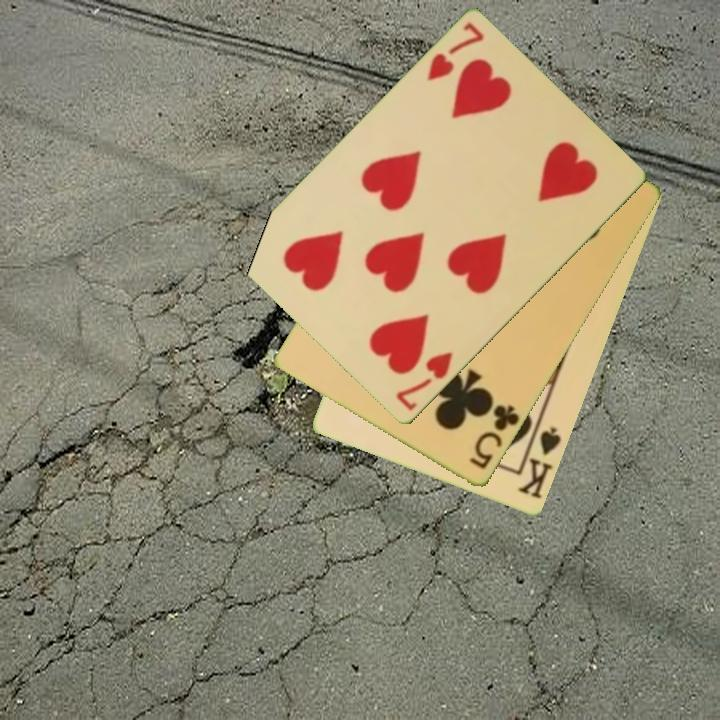5c: (465, 401, 523, 473)
7h: (392, 348, 456, 415), (423, 19, 487, 85)
Ks: (515, 424, 564, 502)
